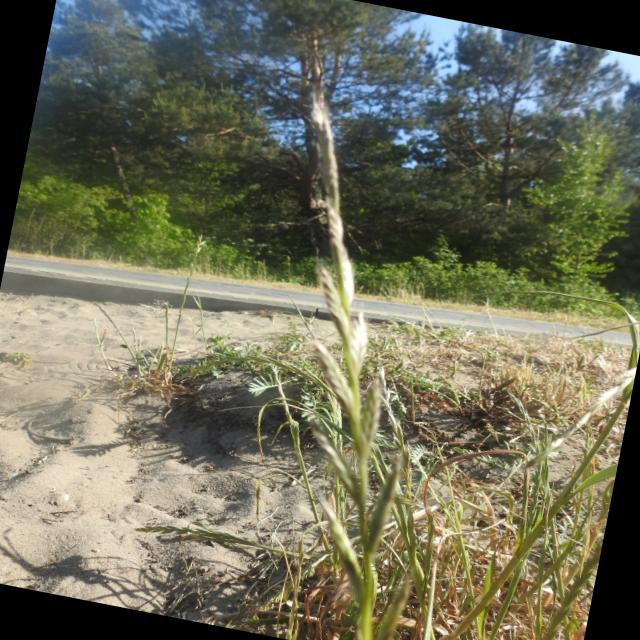Lolium: (157, 25, 494, 640)
